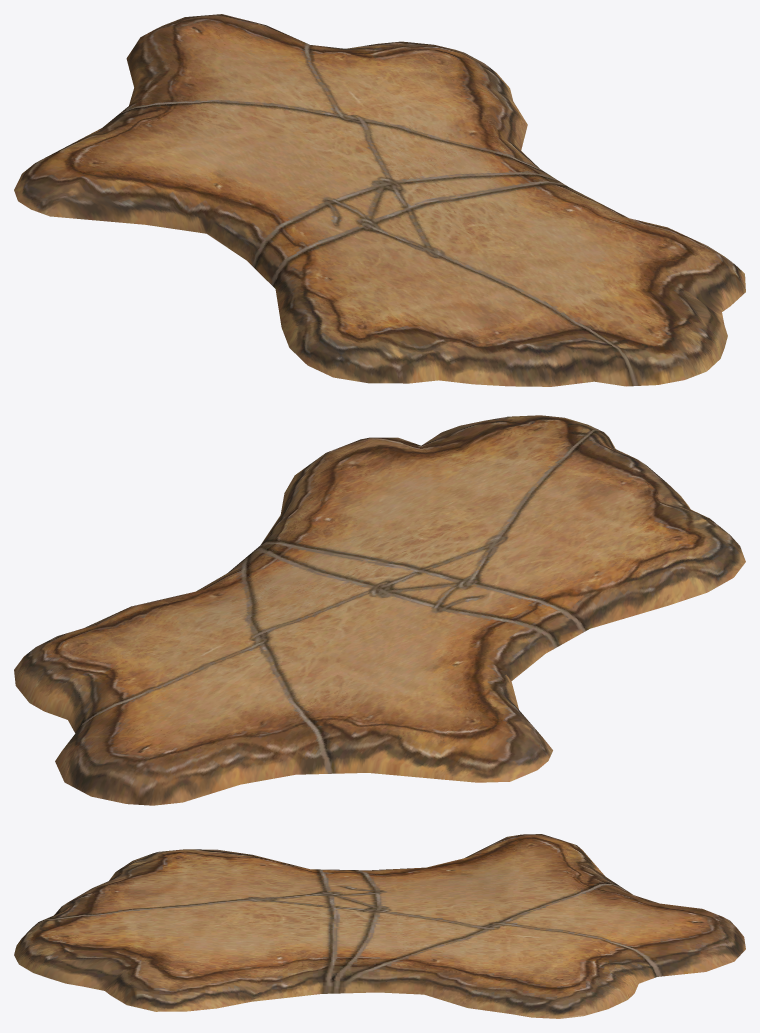
Rendered from con_gen_organic_hide_leather_l0.fbx.
3 views of the same model, one above another, from view 1: azimuth 30°, elevation 25°; view 2: azimuth 150°, elevation 25°; view 3: azimuth 270°, elevation 25° (orthographic). The views are drawn at different scales.
Parts seen in each view (by area): view 1: mesh_node; view 2: mesh_node; view 3: mesh_node.
Boxes of the visible parts, box(x1,y1,x2,y2) form: mesh_node: box(14, 14, 745, 386); mesh_node: box(14, 415, 745, 805); mesh_node: box(14, 834, 745, 1018).
Bounding box in the file's own units: 1.17 × 0.0844 × 2.
1 material, 1 textured.
